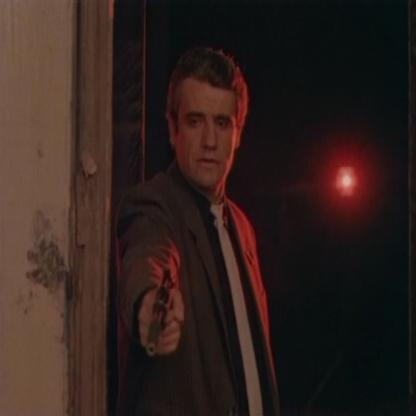gun: (133, 250, 182, 372)
